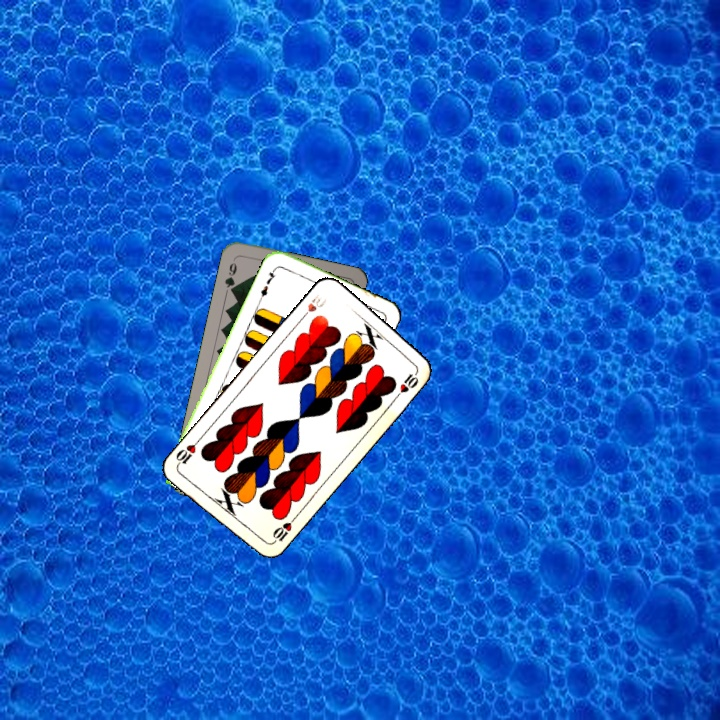E7: (256, 263, 279, 302)
G9: (221, 259, 239, 296)
H10: (296, 289, 329, 323), (268, 513, 298, 546)
